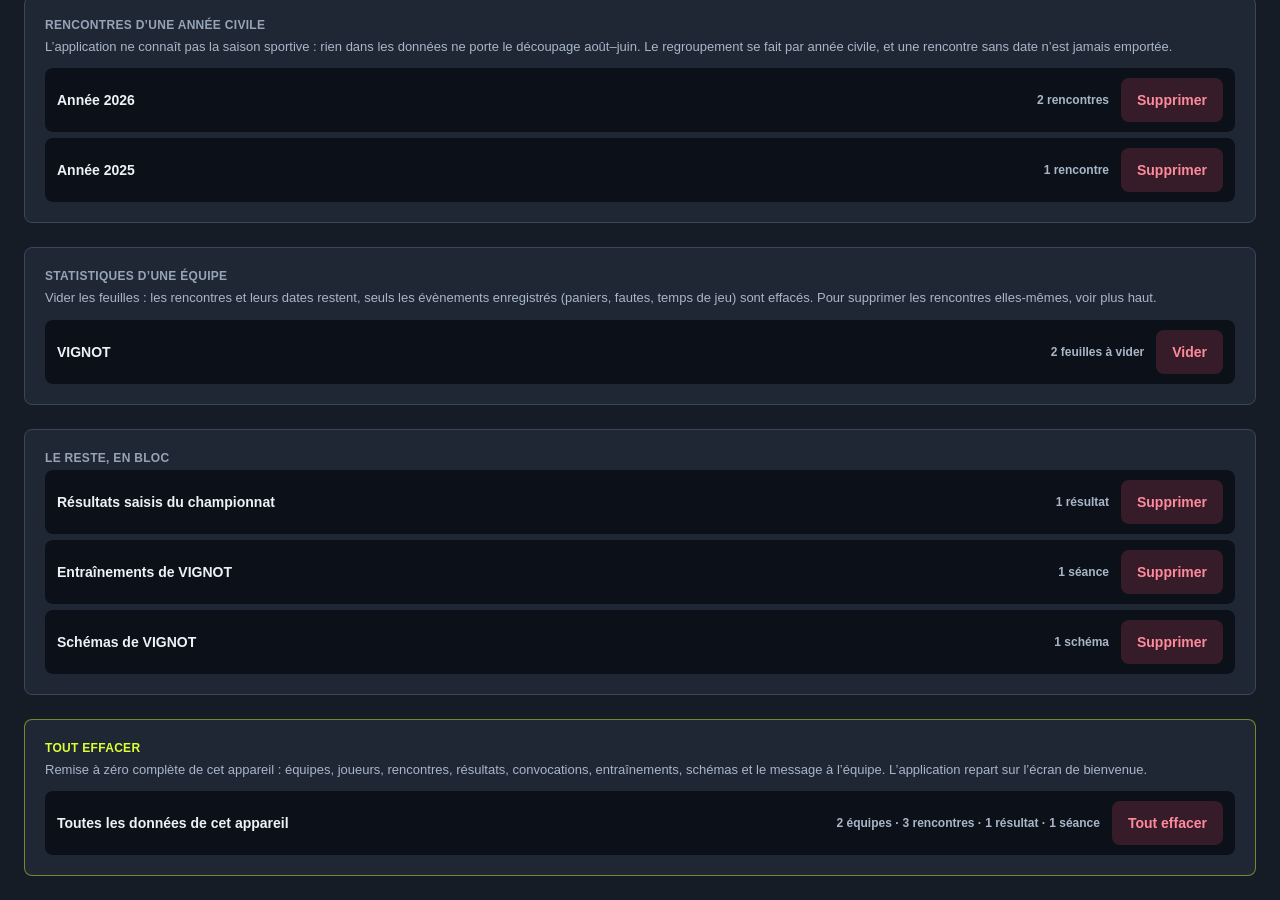
Test: Administration — erase everything › refuses the reset until the club's name is typed exactly
(page scrolled)
Click the button "Tout effacer": x=1167, y=823 [1112,801,1223,845]
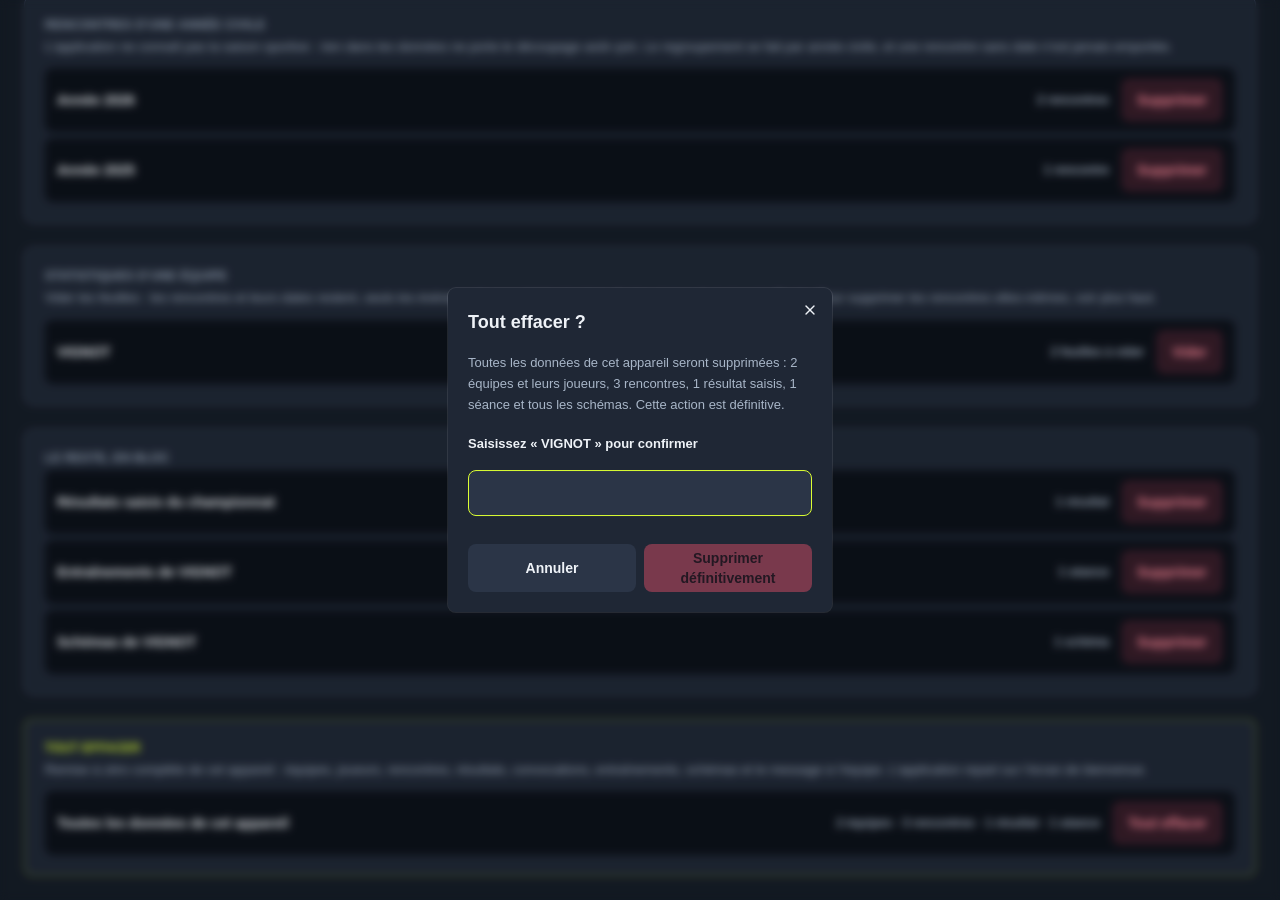
Result: the button "Supprimer définitivement" is disabled at [644,544,812,592]
In the field labelled "Saisissez « VIGNOT » pour confirmer": x=640, y=493 [468,470,812,516], type "VIGNO"
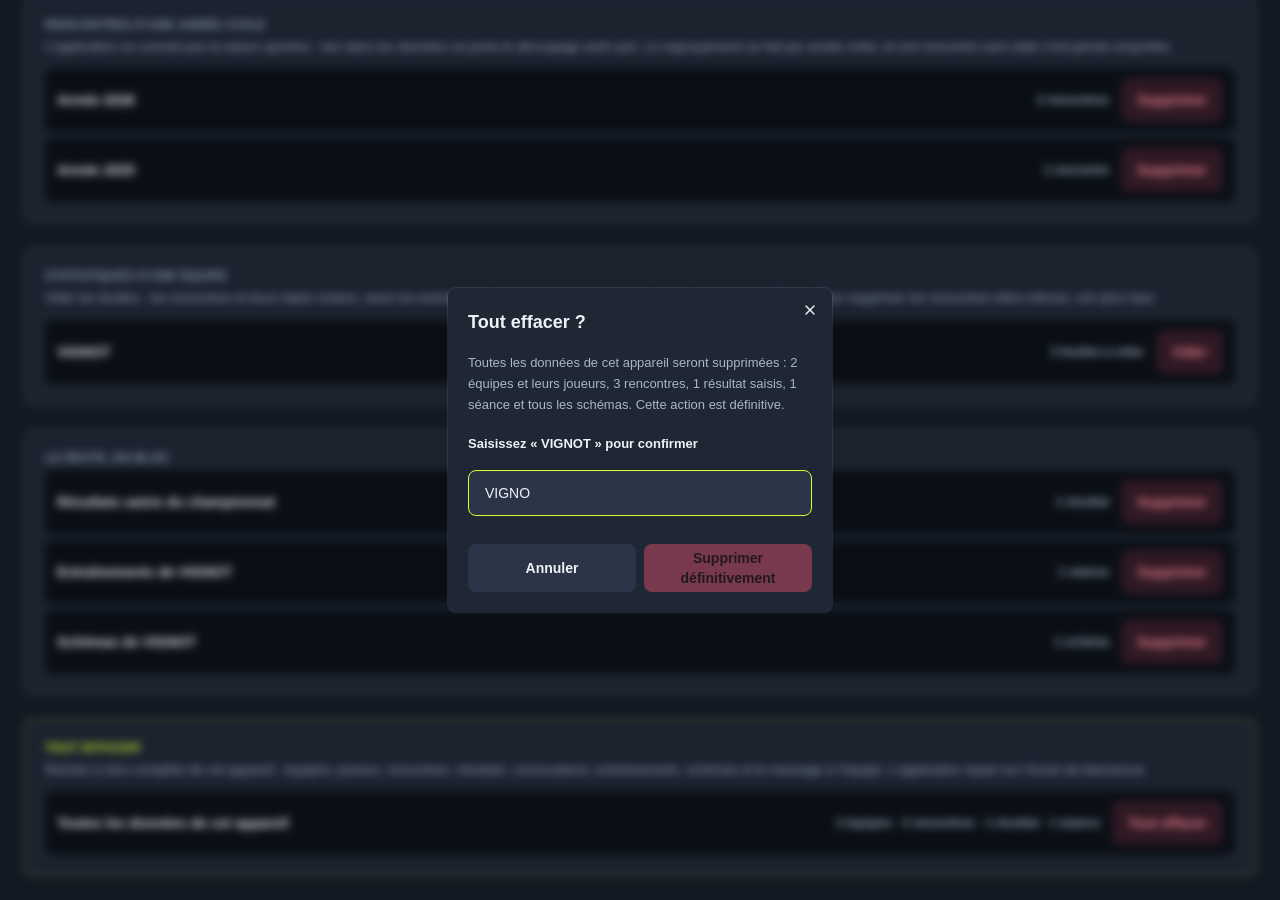
Result: the button "Supprimer définitivement" is disabled
Click the button "Supprimer définitivement": x=728, y=568 [644,544,812,592]
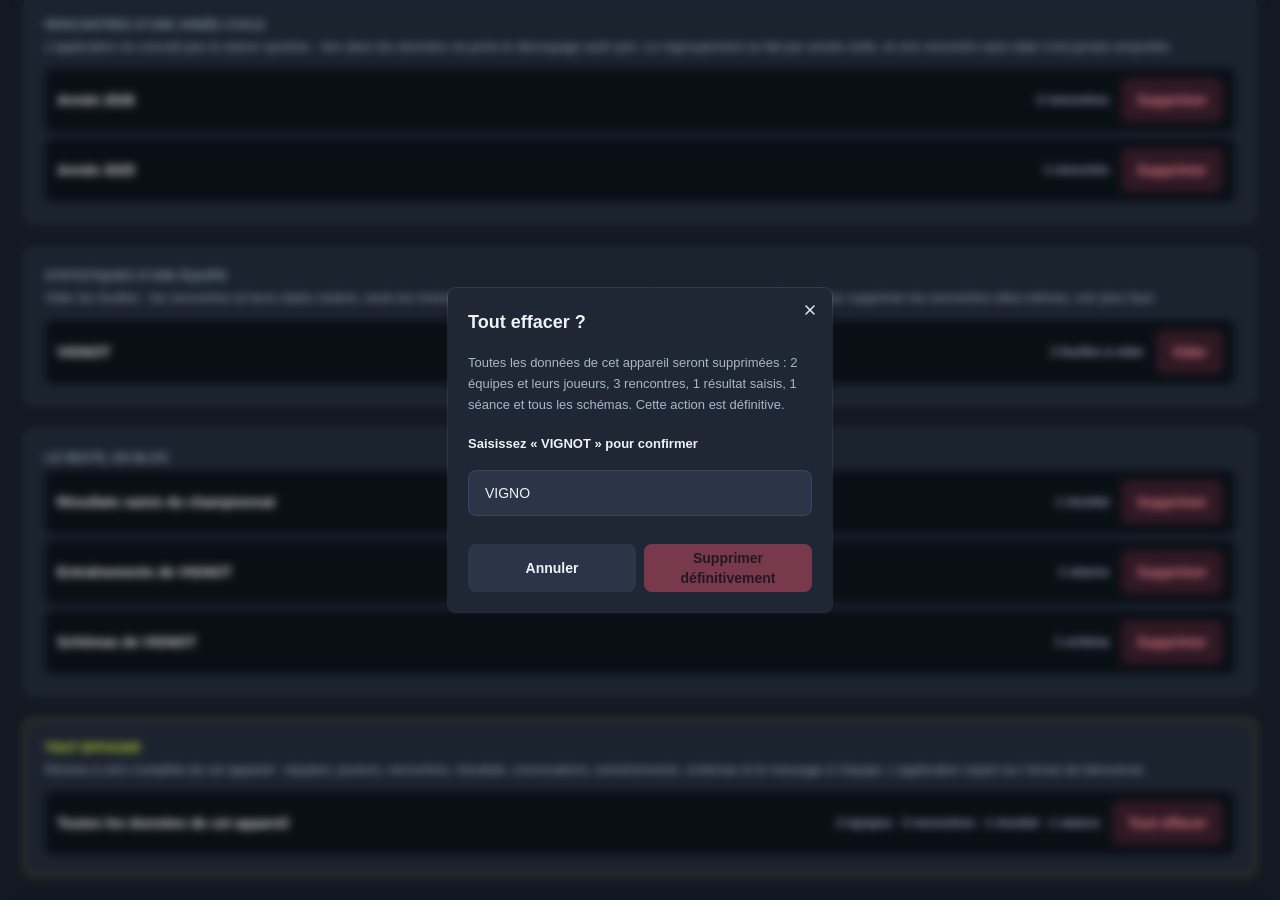
In the field labelled "Saisissez « VIGNOT » pour confirmer": x=640, y=493 [468,470,812,516], type "T"
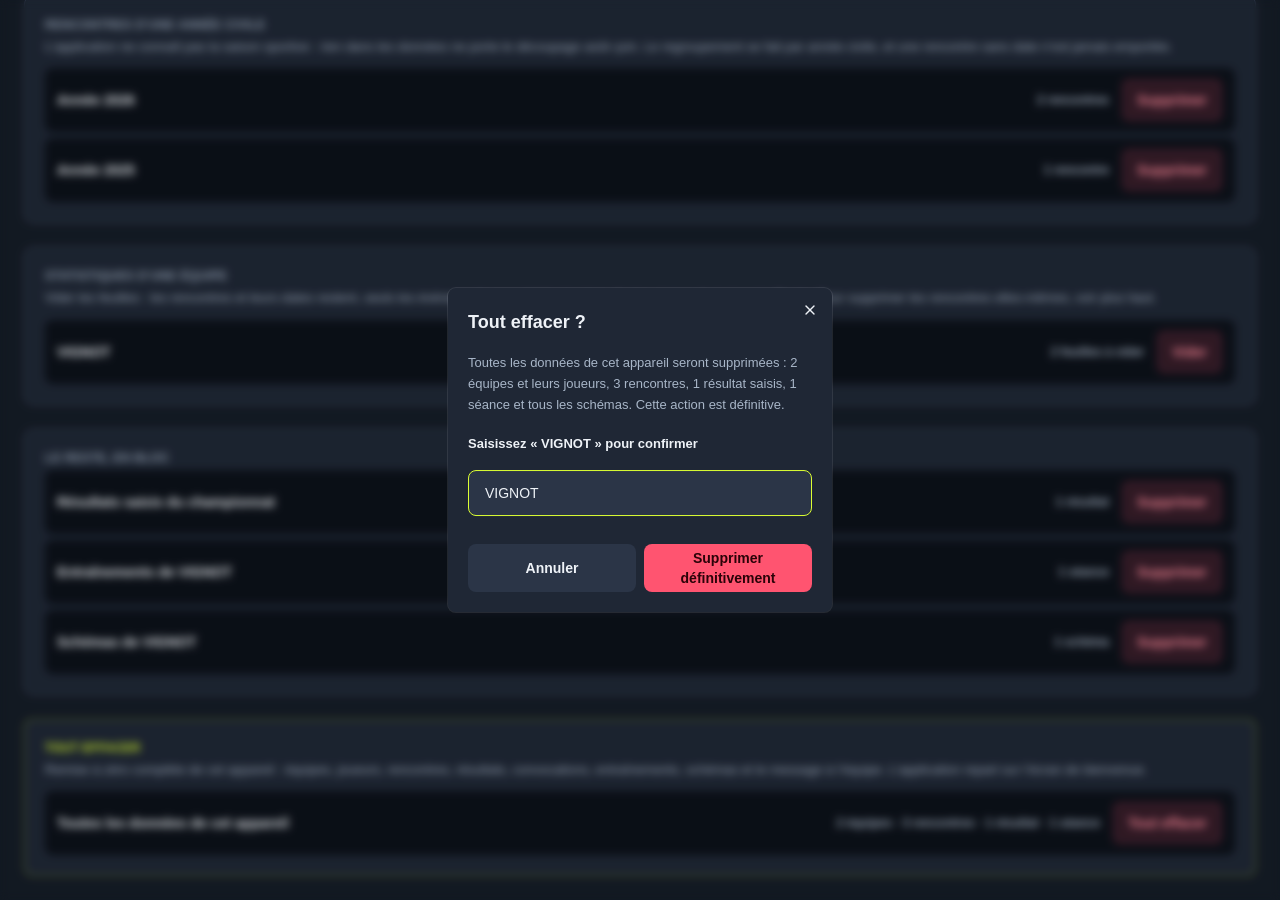
Result: the button "Supprimer définitivement" is enabled at [644,544,812,592]
